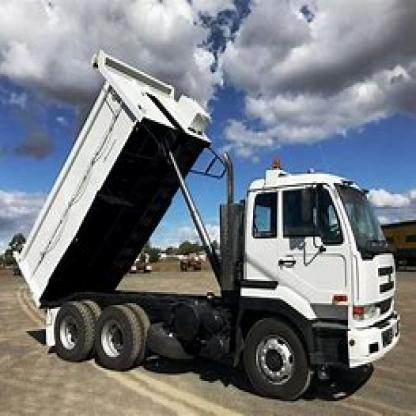dump_truck: (11, 46, 414, 398)
